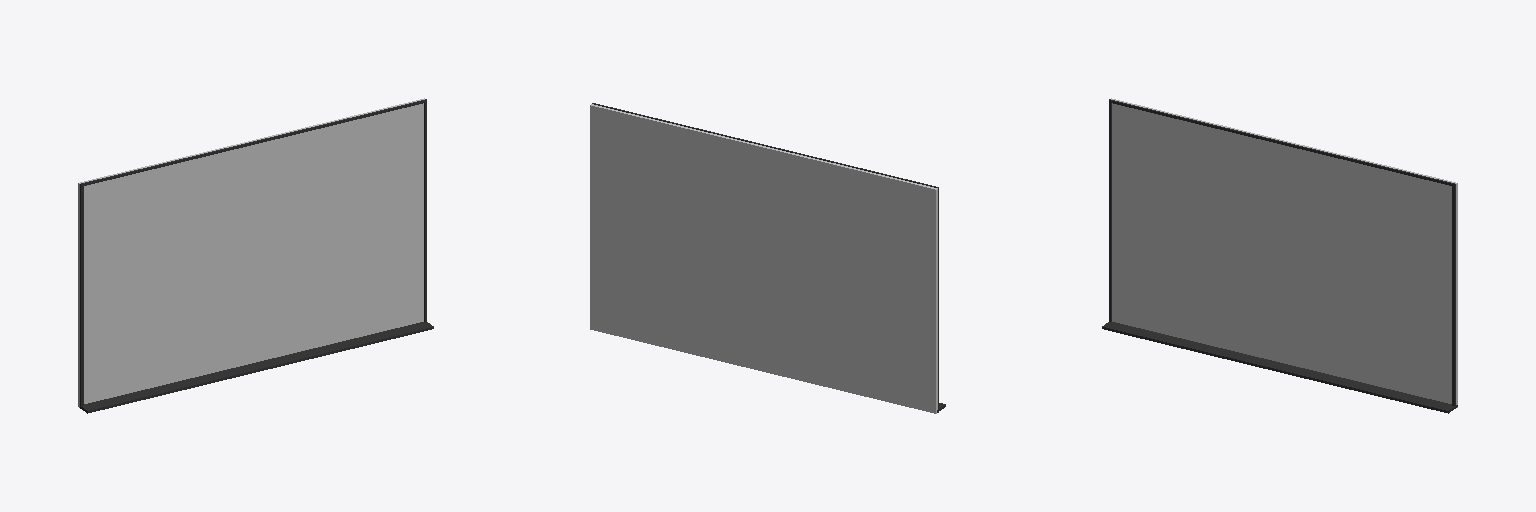
File: digibord.obj
The picture shows the model from 3 angles: view 1: azimuth 30°, elevation 25°; view 2: azimuth 150°, elevation 25°; view 3: azimuth 330°, elevation 25°; orthographic projection.
Visible parts, largest first — view 1: Cube, Cube.001, Cube.002, Cube.003, Cube.004; view 2: Cube, Cube.002; view 3: Cube, Cube.001, Cube.002, Cube.004, Cube.003.
Part boxes in pixels (left/top/right/bottom): Cube: left=78, top=98, right=424, bottom=407; Cube.001: left=81, top=322, right=433, bottom=413; Cube.002: left=80, top=99, right=426, bottom=185; Cube.003: left=80, top=185, right=83, bottom=408; Cube.004: left=424, top=100, right=426, bottom=321; Cube: left=590, top=104, right=937, bottom=413; Cube.002: left=592, top=103, right=938, bottom=188; Cube: left=1111, top=98, right=1457, bottom=407; Cube.001: left=1102, top=322, right=1457, bottom=413; Cube.002: left=1109, top=99, right=1454, bottom=185; Cube.004: left=1452, top=184, right=1455, bottom=407; Cube.003: left=1109, top=101, right=1111, bottom=321.
Size of the model in its own units: 9 by 5.58 by 0.4211.